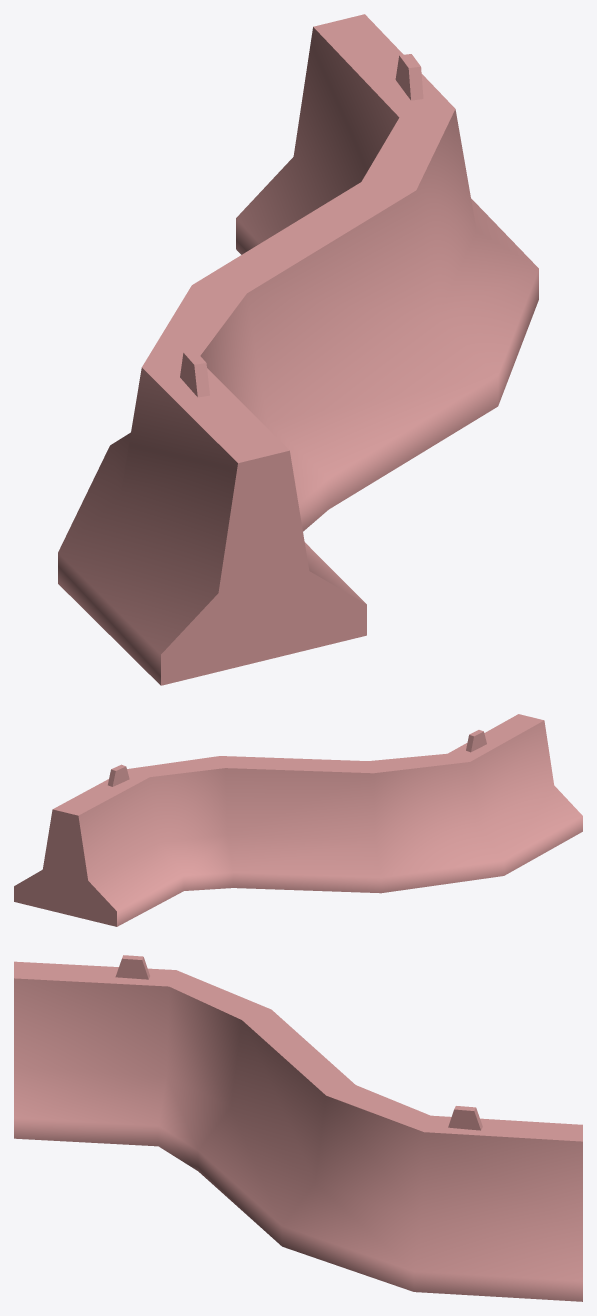
Rendered from ConcreteBarrier_A_D_COL.fbx.
The picture shows the model from 3 angles, top to bottom: view 1: azimuth 30°, elevation 25°; view 2: azimuth 150°, elevation 25°; view 3: azimuth 270°, elevation 25°; orthographic projection. The views are drawn at different scales.
Parts seen in each view (by area): view 1: ConcreteBarrier_A_D_COL; view 2: ConcreteBarrier_A_D_COL; view 3: ConcreteBarrier_A_D_COL.
Boxes of the visible parts, box(x1,y1,x2,y2) form: ConcreteBarrier_A_D_COL: box(58, 14, 538, 685); ConcreteBarrier_A_D_COL: box(14, 714, 582, 926); ConcreteBarrier_A_D_COL: box(14, 955, 582, 1301).
Bounding box in the file's own units: 287 × 89.9 × 300.
